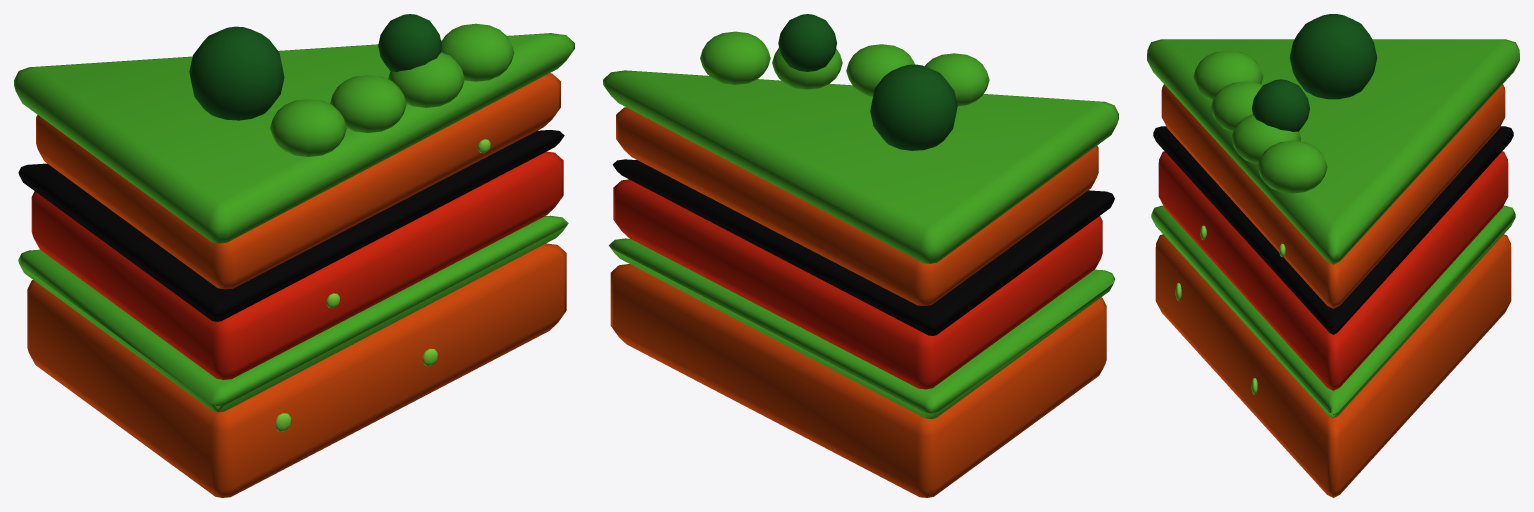
The model's file is cake_slice.fbx.
The picture shows the model from 3 angles, left to right: view 1: azimuth 30°, elevation 25°; view 2: azimuth 150°, elevation 25°; view 3: azimuth 270°, elevation 25°; orthographic projection. The views are drawn at different scales.
Parts seen in each view (by area): view 1: cake_slice; view 2: cake_slice; view 3: cake_slice.
Part boxes in pixels (left/top/right/bottom): cake_slice: left=14, top=14, right=574, bottom=497; cake_slice: left=603, top=14, right=1118, bottom=497; cake_slice: left=1147, top=14, right=1519, bottom=497.
Size of the model in its own units: 100 by 77.97 by 76.57.
